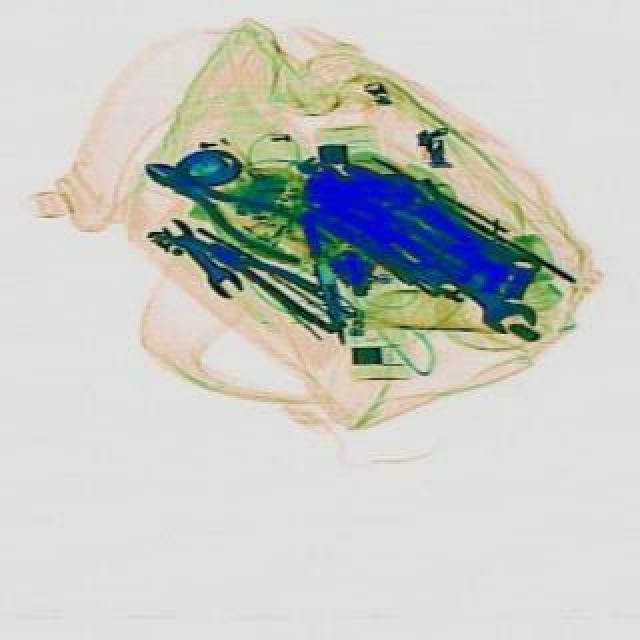scissors: (406, 234, 538, 346), (154, 210, 244, 302)
wrench: (126, 142, 334, 278), (196, 228, 344, 332)
